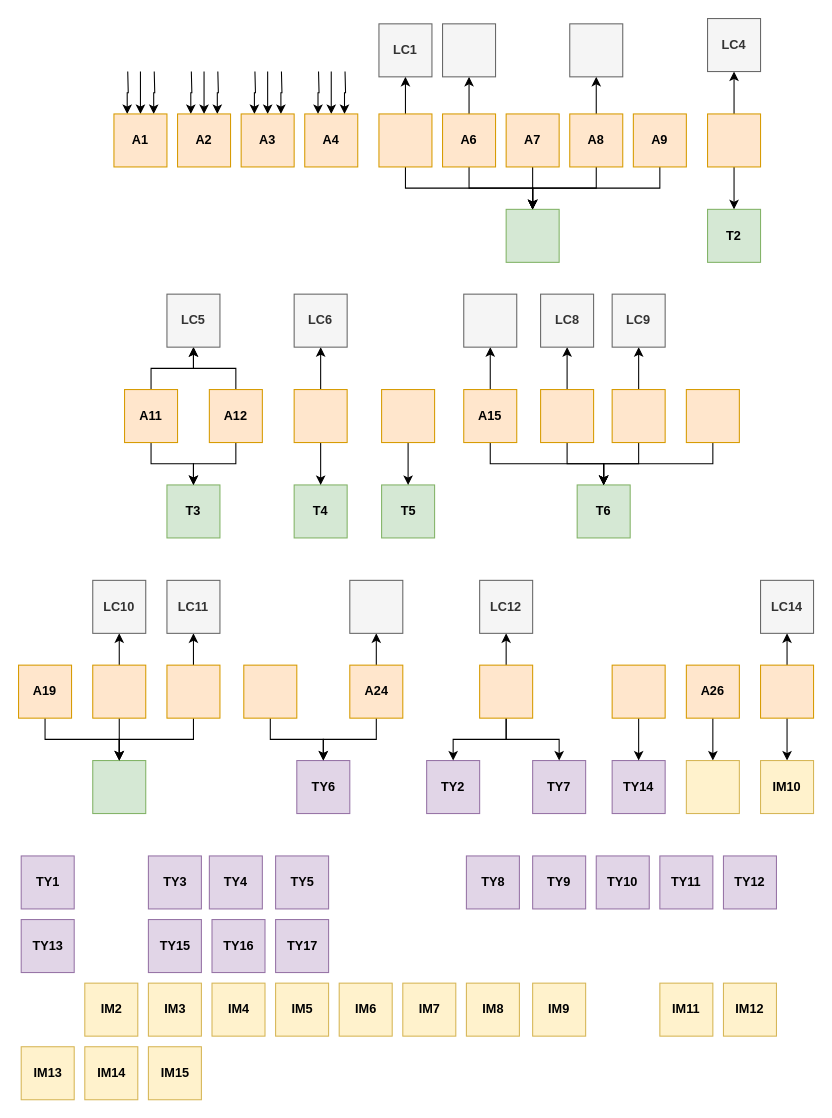
Image size: 832x1118. Some labels were removed from this diagram. Each missing label, with the box of its shape:
A10: (706, 113, 761, 167)
A13: (293, 388, 347, 443)
A14: (381, 388, 435, 443)
A16: (540, 388, 594, 443)
A17: (611, 388, 665, 443)
A18: (685, 388, 739, 443)
A20: (92, 664, 146, 718)
A21: (166, 664, 220, 718)
A22: (243, 664, 297, 718)
A23: (479, 664, 533, 718)
A25: (611, 664, 665, 718)
A27: (759, 664, 814, 718)
A5: (378, 113, 432, 167)
IM1: (685, 759, 739, 814)
LC13: (349, 579, 403, 633)
LC2: (441, 23, 496, 77)
LC3: (569, 23, 623, 77)
LC7: (463, 293, 517, 347)
T1: (505, 208, 559, 262)
T7: (92, 759, 146, 814)
